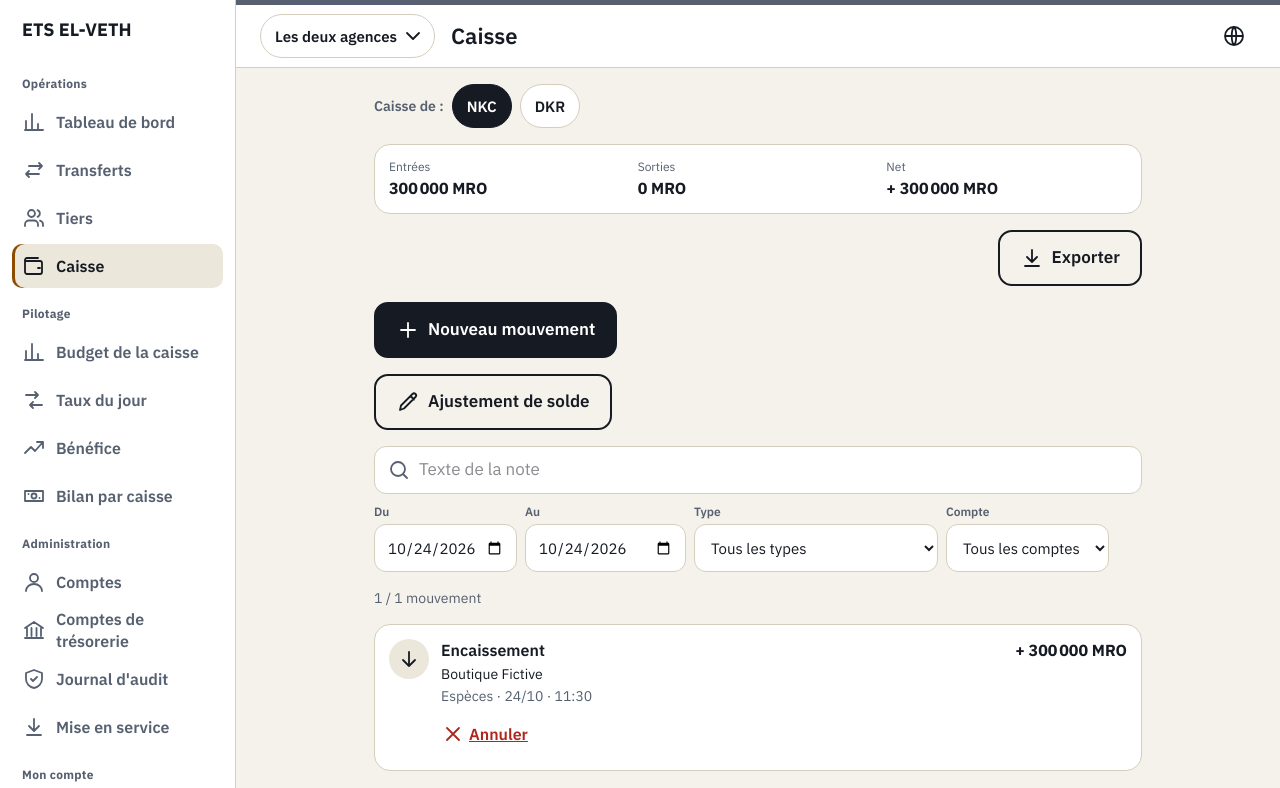
it: Caisse — corrections du Superviseur › annule un mouvement avec un motif obligatoire ; il reste barré avec son motif
Click the button with aria-label "Annuler : Encaissement · Boutique Fictive".
click(484, 734)  # box left=441, top=712, right=528, bottom=756
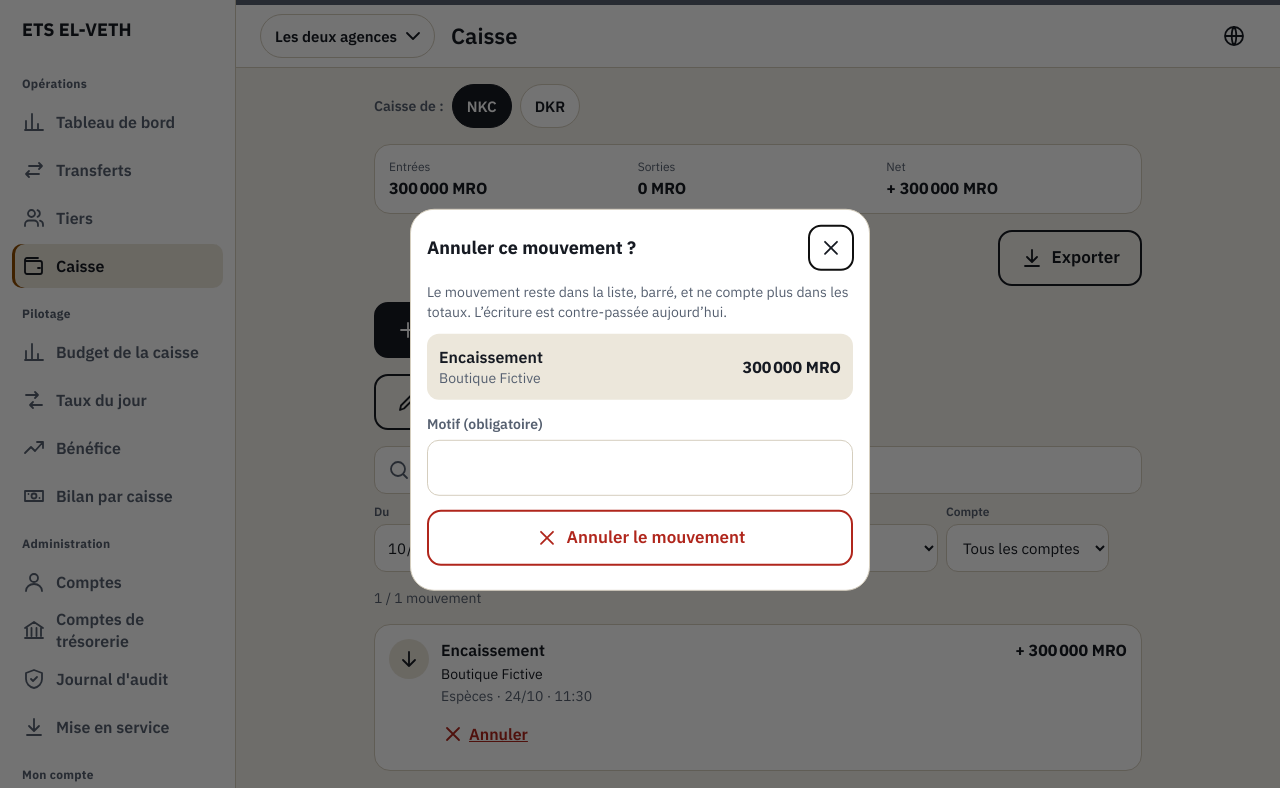
Click the button "Annuler le mouvement".
click(640, 538)  # box left=427, top=510, right=853, bottom=566
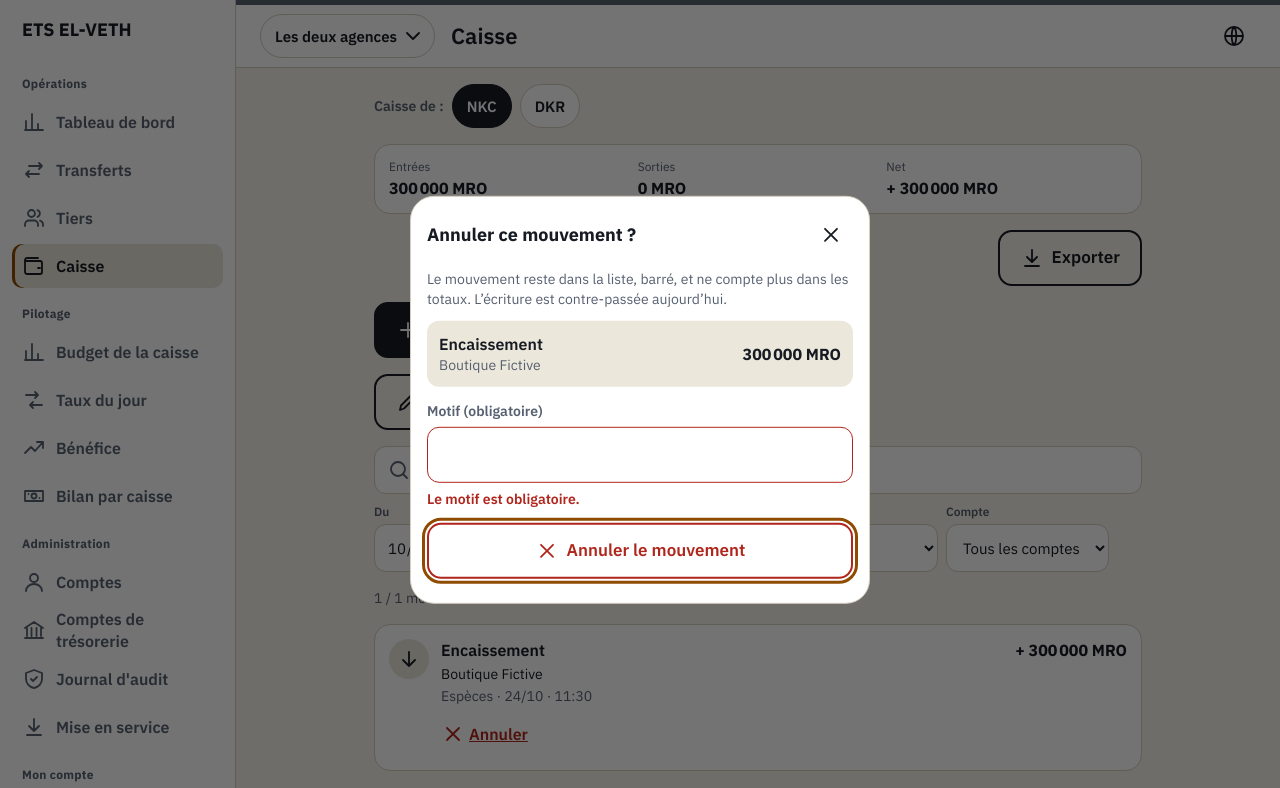
Check: the text "Le motif est obligatoire." is shown, box left=427, top=490, right=580, bottom=508
Type "Montant saisi en double" into the field labelled "Motif (obligatoire)".
click(640, 455); type("Montant saisi en double")  # box left=428, top=429, right=852, bottom=481
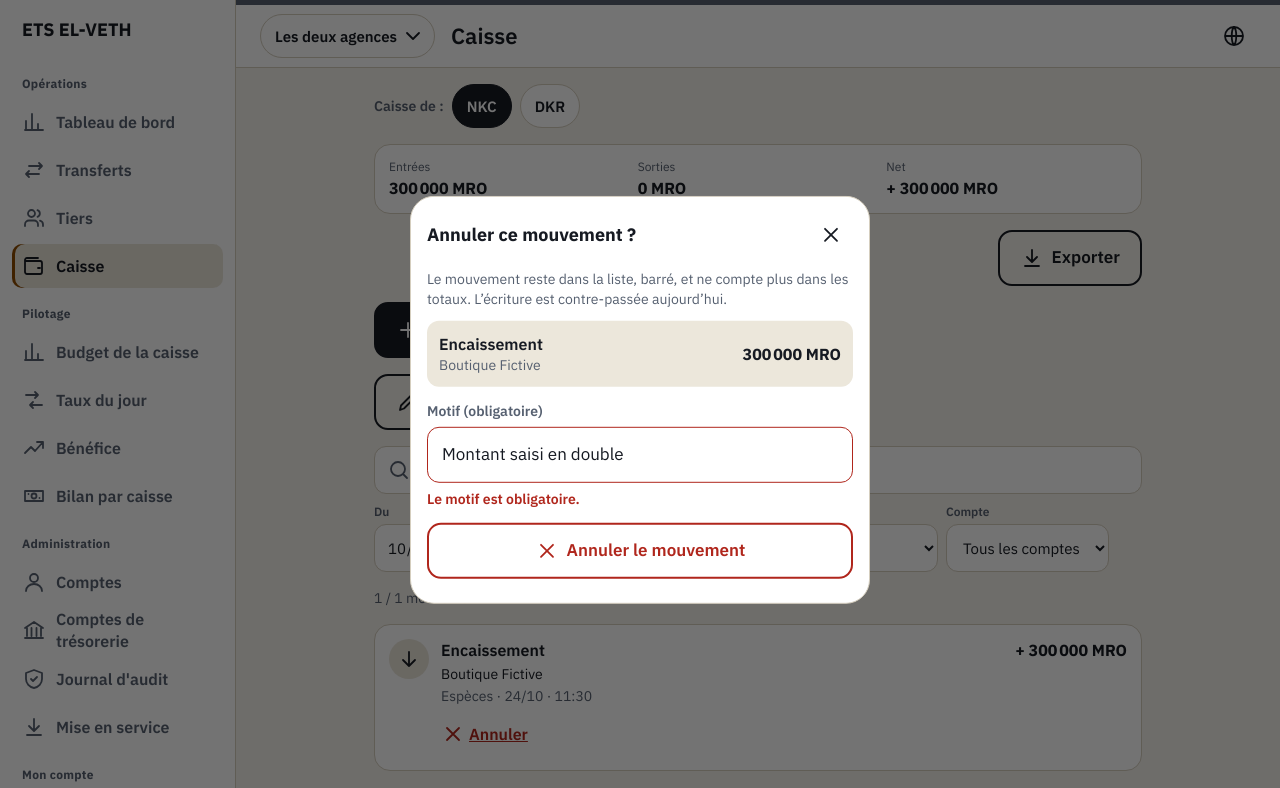
Click the button "Annuler le mouvement".
click(640, 551)  # box left=427, top=523, right=853, bottom=579
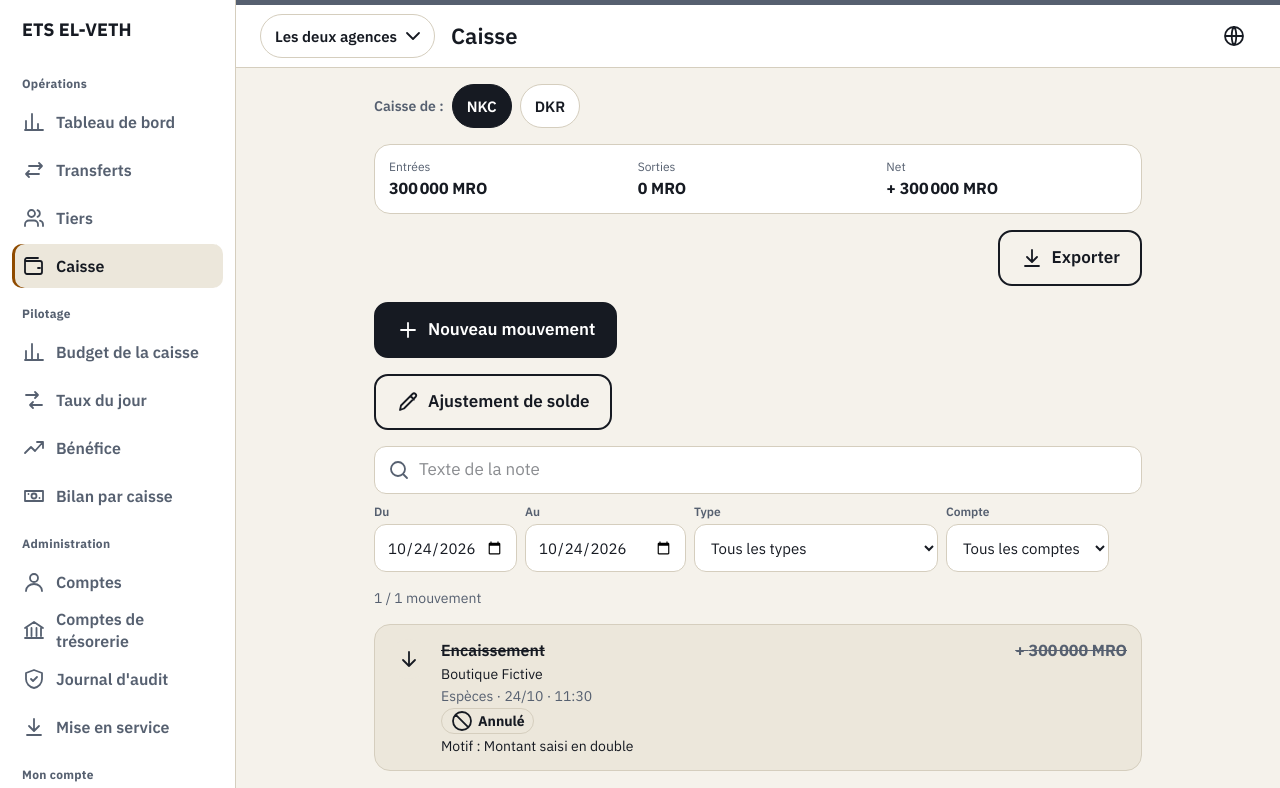
Check: the dialog is gone
Check: the text "Annulé" is shown, box left=441, top=708, right=534, bottom=734
